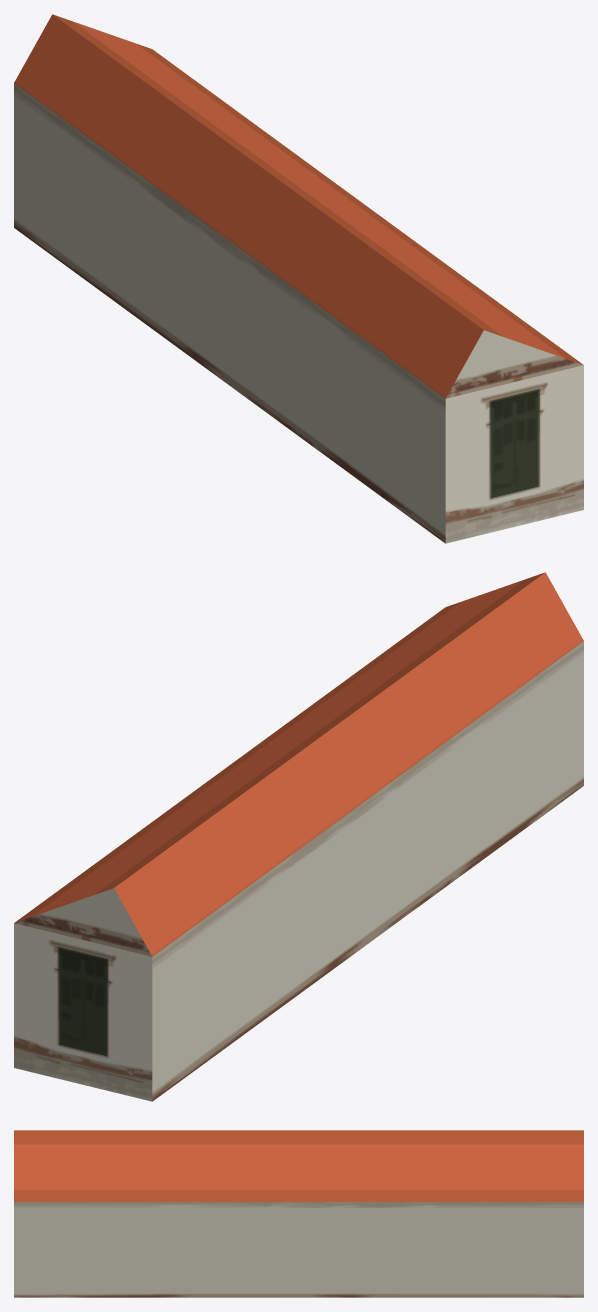
The model's file is SM_Building_Market_01.fbx.
3 renders of one model, top to bottom at view 1: azimuth 30°, elevation 25°; view 2: azimuth 150°, elevation 25°; view 3: azimuth 270°, elevation 25°, orthographic. The views are drawn at different scales.
Visible parts, largest first — view 1: SM_Building_Market_01; view 2: SM_Building_Market_01; view 3: SM_Building_Market_01.
Part boxes in pixels (x1,y1,x2,y2): SM_Building_Market_01: [14, 14, 583, 543]; SM_Building_Market_01: [14, 572, 583, 1101]; SM_Building_Market_01: [14, 1130, 583, 1297].
Bounding box in the file's own units: 7.5 × 10.57 × 40.5.
